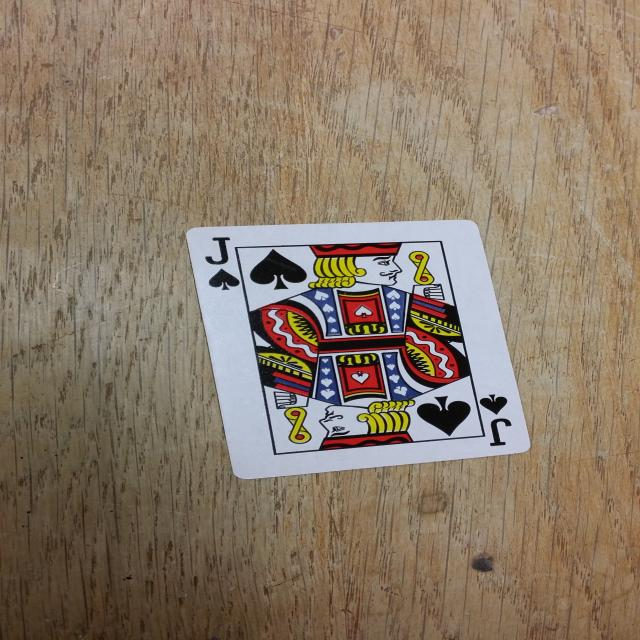Js: (189, 234, 253, 297), (469, 391, 526, 451)
